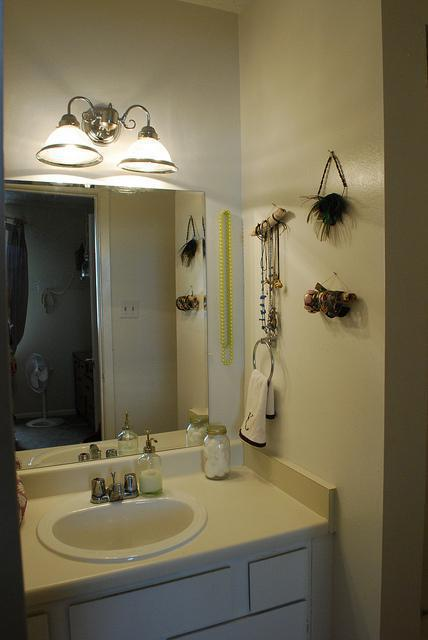Lavamanos: (34, 457, 210, 572)
